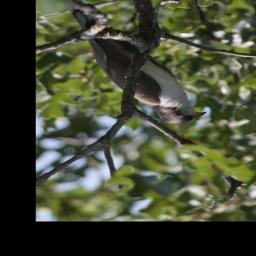Cuckoo: (54, 0, 208, 125)
